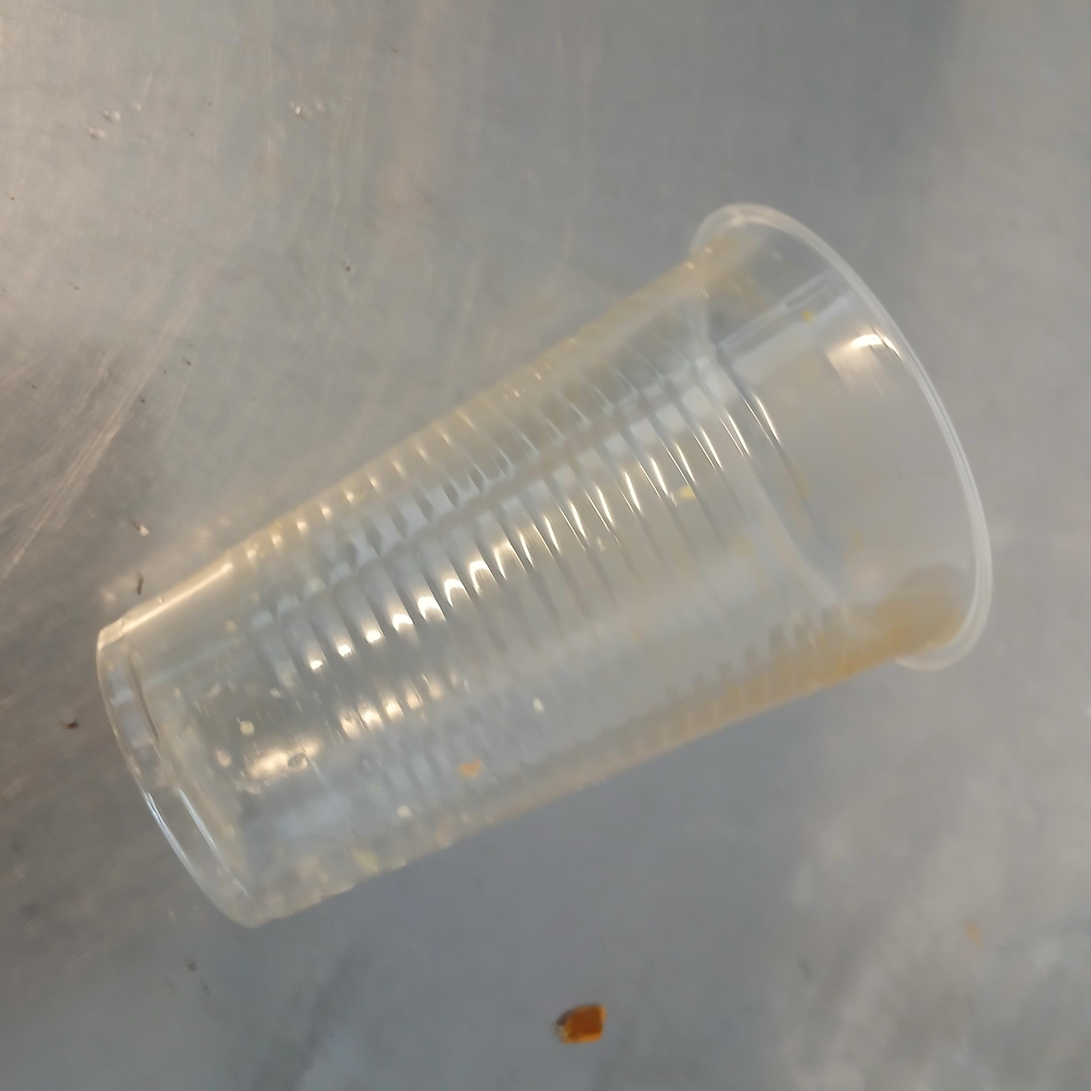Plastico: (91, 199, 991, 924)
